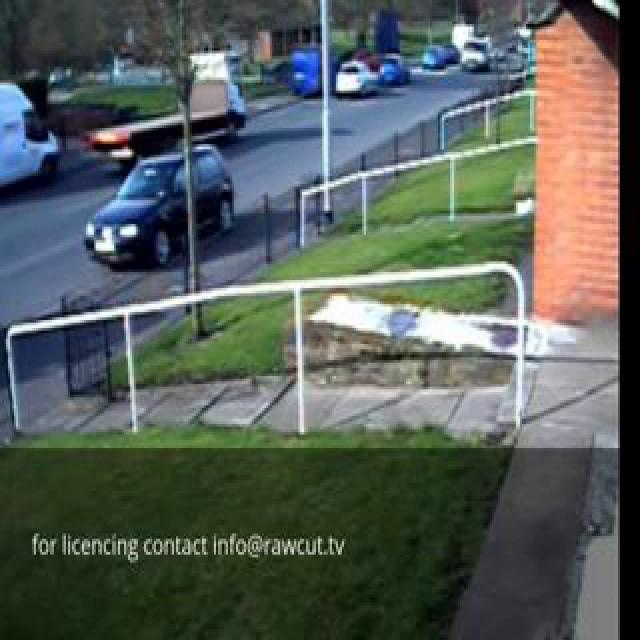road accidents: (49, 0, 337, 404)
